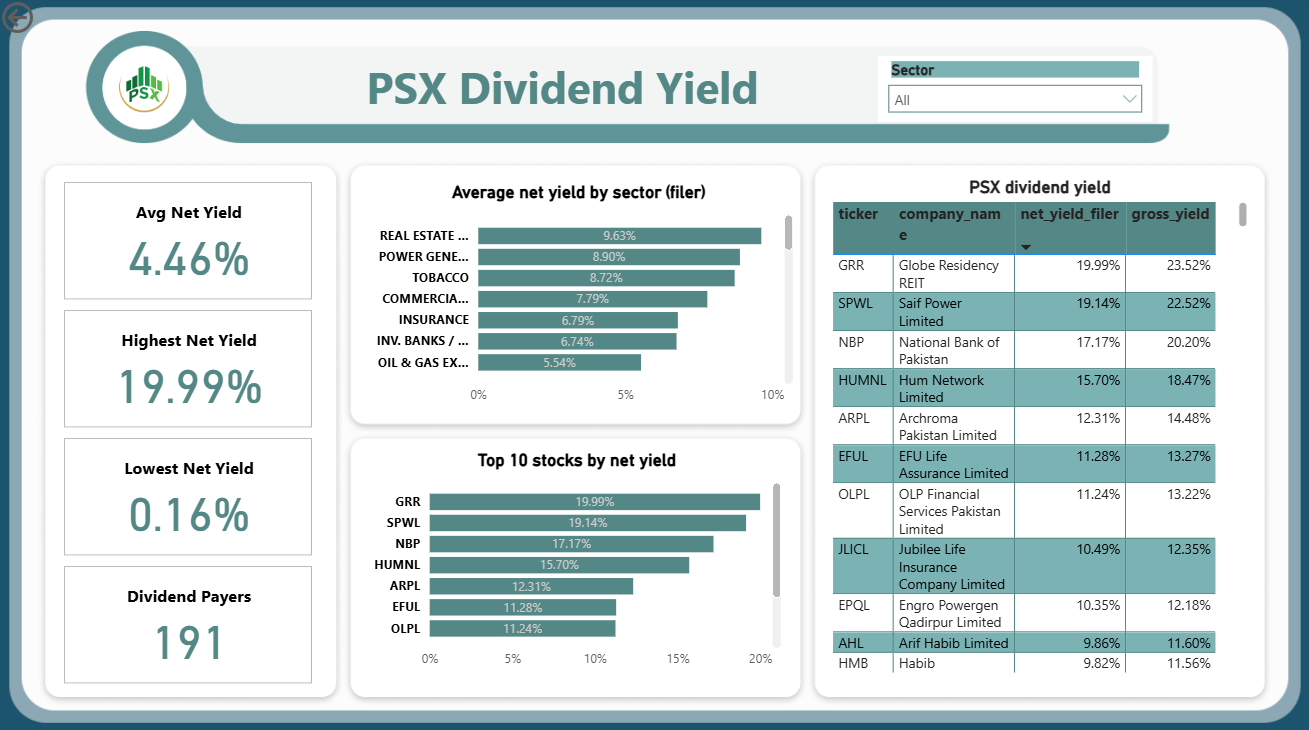

The dashboard page shown, as its layout file describes it:
{"tool":"powerbi","page":{"name":"Yield ranking","canvas":[1280,720],"ordinal":0},"visuals":[{"type":"image","box":[7.8,26.3,1196.4,128.4],"z":0},{"type":"clusteredBarChart","title":"Average net yield by sector (filer)","fields":{"Category":["v_dividend_yield.sector"],"Y":["Avg(v_dividend_yield.net_yield_filer)"]},"box":[352.1,179.9,427,225.7],"z":1000},{"type":"cardVisual","fields":{"Data":["v_dividend_yield.Avg Net Yield"]},"box":[60.3,175.1,251.9,124.5],"z":2000},{"type":"cardVisual","fields":{"Data":["v_dividend_yield.Highest Net Yield"]},"box":[60.3,299.6,251.9,124.5],"z":3000},{"type":"cardVisual","fields":{"Data":["v_dividend_yield.Lowest Net Yield"]},"box":[60.3,424.1,251.9,124.5],"z":4000},{"type":"cardVisual","fields":{"Data":["v_dividend_yield.Dividend Payers"]},"box":[60.3,548.6,251.9,124.5],"z":5000},{"type":"tableEx","title":"PSX dividend yield","fields":{"Values":["v_dividend_yield.ticker","v_dividend_yield.company_name","v_dividend_yield.net_yield_filer","v_dividend_yield.gross_yield"]},"box":[807.3,175.1,414.3,487.3],"z":6000},{"type":"actionButton","box":[0,0,100,40],"z":7000},{"type":"clusteredBarChart","title":"Top 10 stocks by net yield","fields":{"Category":["v_dividend_yield.ticker"],"Y":["Avg(v_dividend_yield.net_yield_filer)"]},"box":[360.9,440.6,406.6,221.8],"z":8000},{"type":"image","box":[108,58.4,72,63.2],"z":9000},{"type":"slicer","fields":{"Values":["v_dividend_yield.sector"]},"box":[856.9,57.4,267.5,64.2],"z":10000},{"type":"textbox","box":[243.2,53.5,613.7,68.1],"z":11000}]}

Visuals, with their boxes in screenshot pixels (x1, y1, x2, y2), scaled from the page's 1280x720 canvas onto the 1309x730 screenshot:
image: (x1=8, y1=27, x2=1231, y2=157)
"Average net yield by sector (filer)" clusteredBarChart: (x1=360, y1=182, x2=797, y2=411)
cardVisual - v_dividend_yield.Avg Net Yield: (x1=62, y1=178, x2=319, y2=304)
cardVisual - v_dividend_yield.Highest Net Yield: (x1=62, y1=304, x2=319, y2=430)
cardVisual - v_dividend_yield.Lowest Net Yield: (x1=62, y1=430, x2=319, y2=556)
cardVisual - v_dividend_yield.Dividend Payers: (x1=62, y1=556, x2=319, y2=682)
"PSX dividend yield" tableEx: (x1=826, y1=178, x2=1249, y2=672)
actionButton: (x1=0, y1=0, x2=102, y2=41)
"Top 10 stocks by net yield" clusteredBarChart: (x1=369, y1=447, x2=785, y2=672)
image: (x1=110, y1=59, x2=184, y2=123)
slicer - v_dividend_yield.sector: (x1=876, y1=58, x2=1150, y2=123)
textbox: (x1=249, y1=54, x2=876, y2=123)
